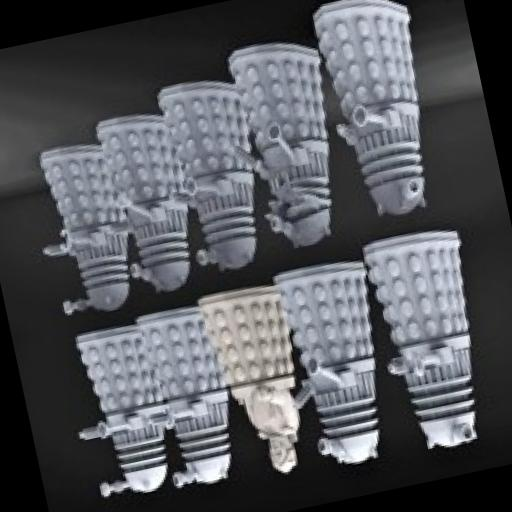dalek: (363, 226, 502, 454), (309, 0, 449, 223), (270, 256, 406, 472), (224, 34, 356, 252), (122, 298, 252, 494), (154, 74, 280, 276), (197, 282, 320, 484), (90, 107, 211, 297), (59, 319, 183, 502), (24, 137, 147, 319)
